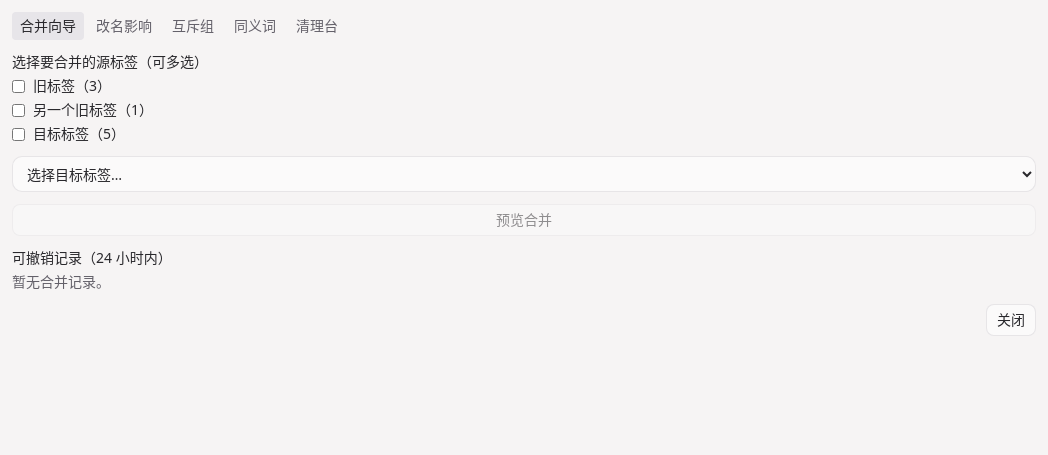
New211TagOpsPanel › 合并向导：勾选源标签 → 预览 → 确认合并（真实链路）
Expected: the tab "合并向导" is shown, [12,12,84,40]
Click the checkbox labelled "旧标签（3）".
click(18, 86)  # box [12,80,25,92]
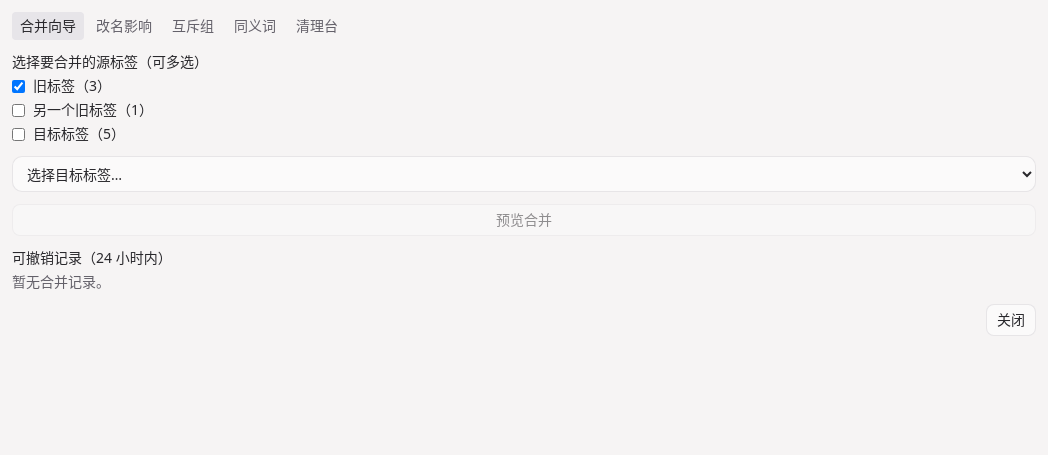
Select "目标标签" in the dropdown named "目标标签" at {"x": 524, "y": 174}, box [12,156,1036,192]
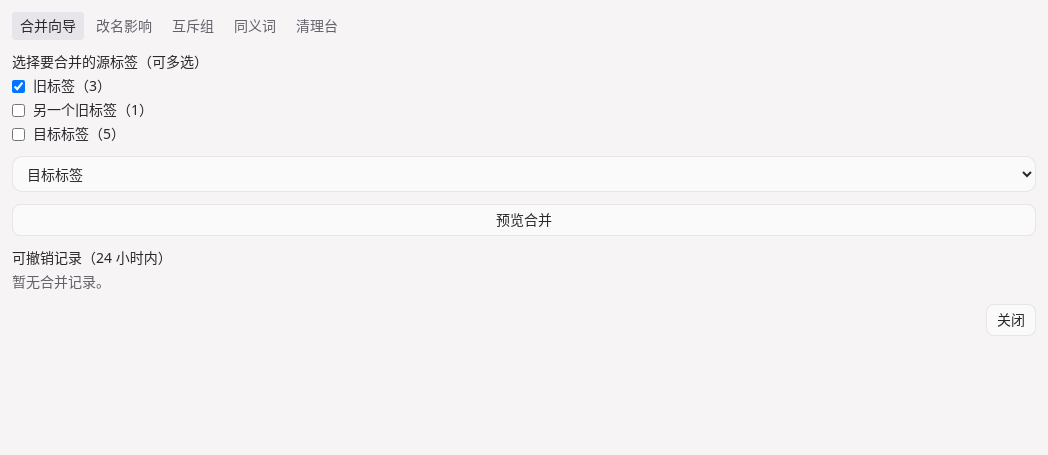
Click the button "预览合并".
click(524, 220)  # box [12,204,1036,236]
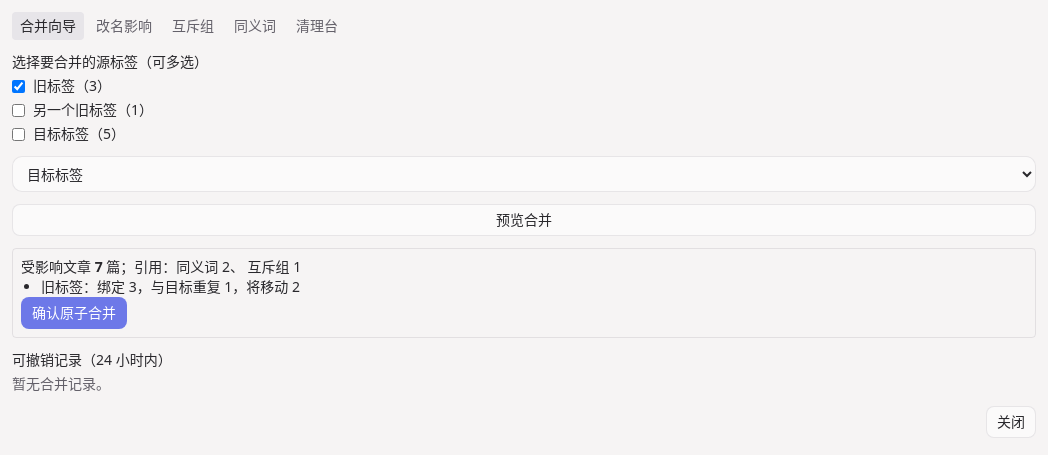
Expected: the element with test id "new211-merge-preview" shows "受影响文章 7 篇", [12,248,1036,338]
Expected: the element with test id "new211-merge-preview" shows "将移动 2", [12,248,1036,338]
Click the button "确认原子合并".
click(74, 313)  # box [21,297,127,329]
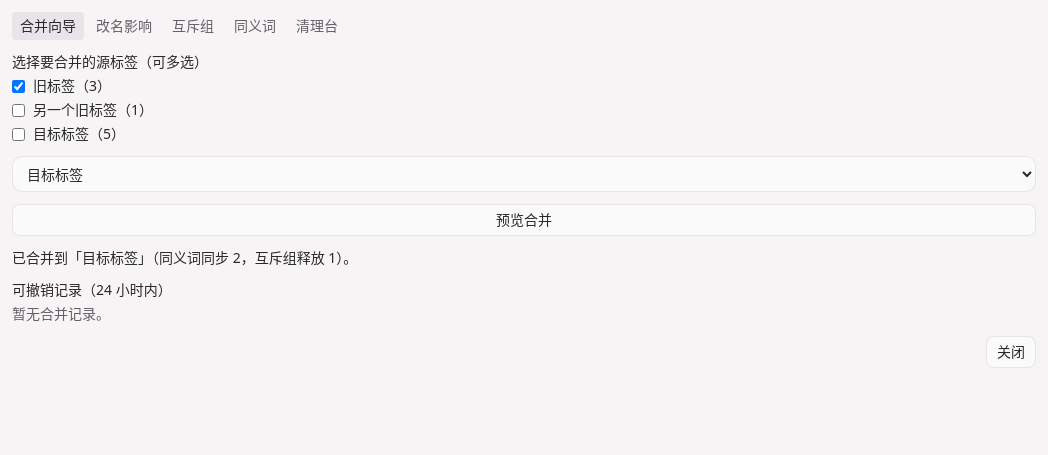
Expected: the message with test id "new211-merge-result" shows "已合并到「目标标签」", [12,248,357,267]
